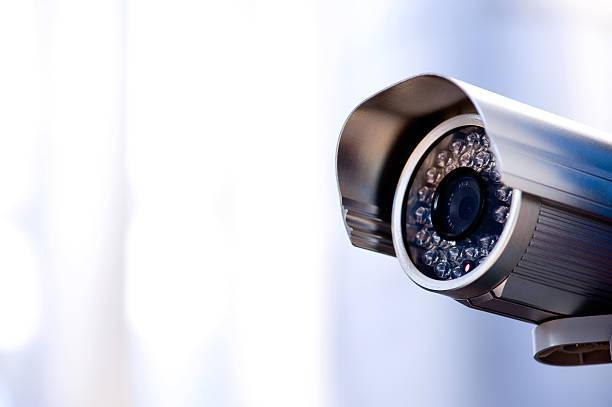camera: (323, 46, 606, 366)
